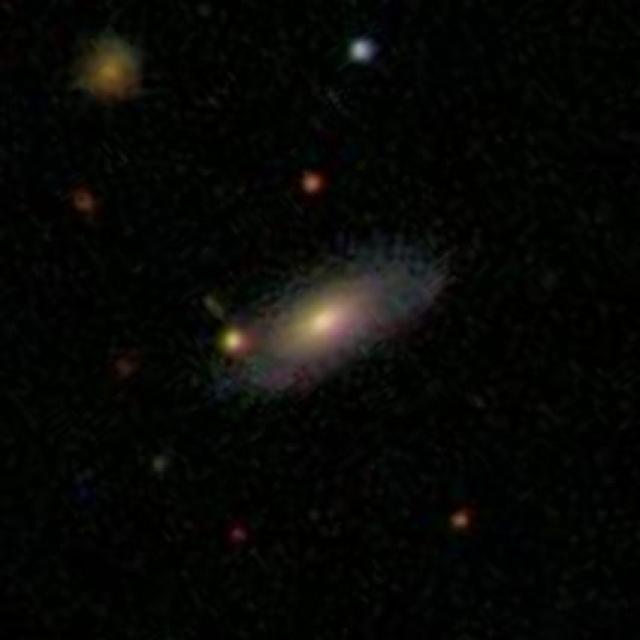galaxy: (200, 234, 451, 404), (75, 34, 148, 106), (68, 182, 100, 218), (220, 327, 256, 359), (109, 350, 137, 385), (200, 293, 231, 324), (346, 35, 378, 65), (301, 169, 327, 195), (230, 521, 250, 549), (151, 451, 170, 480), (451, 508, 470, 532)
